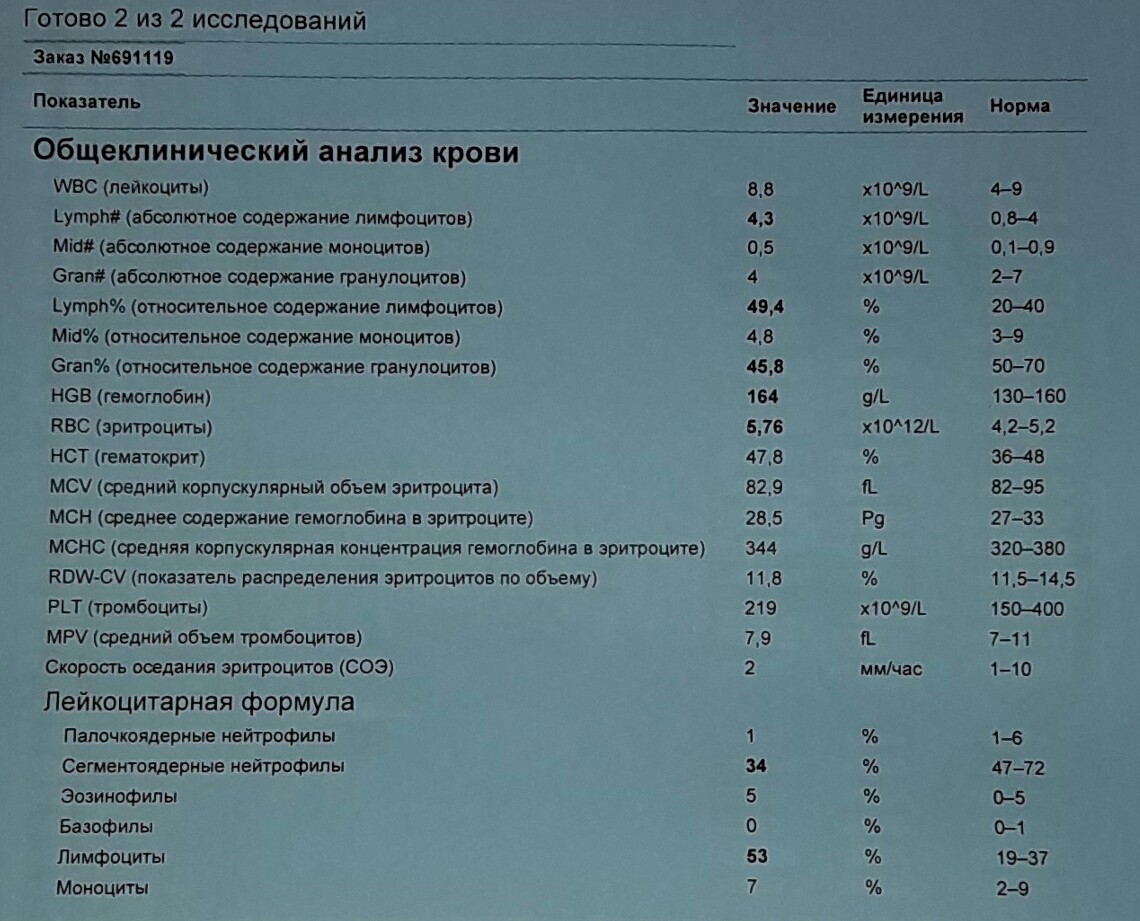column: (40, 175, 706, 898), (988, 175, 1076, 898), (859, 175, 940, 898), (743, 175, 785, 898), (33, 87, 141, 126), (862, 87, 964, 126), (748, 87, 837, 126), (990, 87, 1051, 126)
